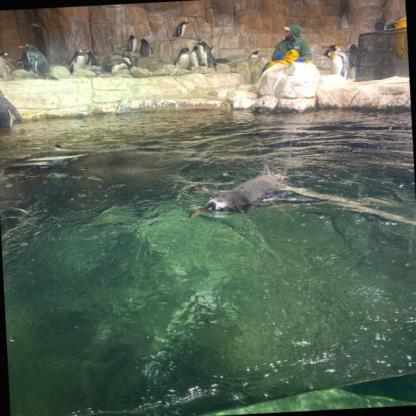penguin: (186, 155, 330, 218), (19, 42, 62, 83), (0, 80, 24, 135), (318, 45, 351, 82), (193, 40, 217, 70), (342, 43, 368, 68), (69, 49, 91, 75), (171, 48, 191, 72), (104, 58, 133, 74), (0, 51, 14, 82), (175, 21, 192, 38), (138, 38, 152, 57), (127, 33, 138, 53), (249, 50, 262, 60)
